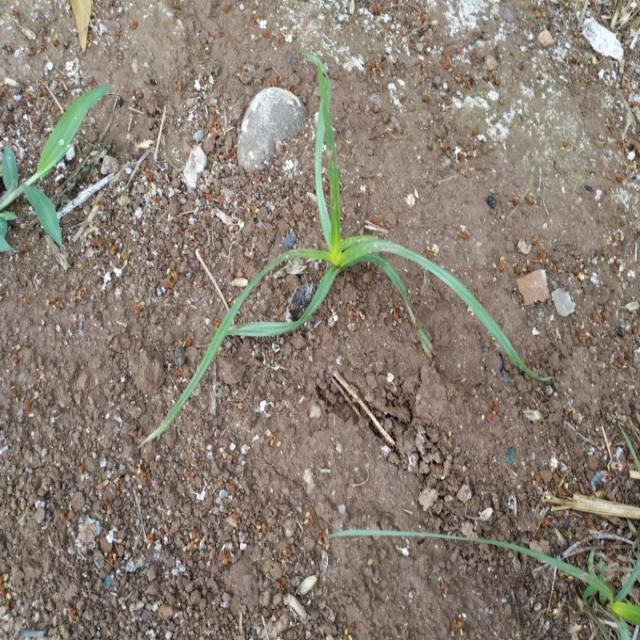sedge: (160, 95, 508, 413)
